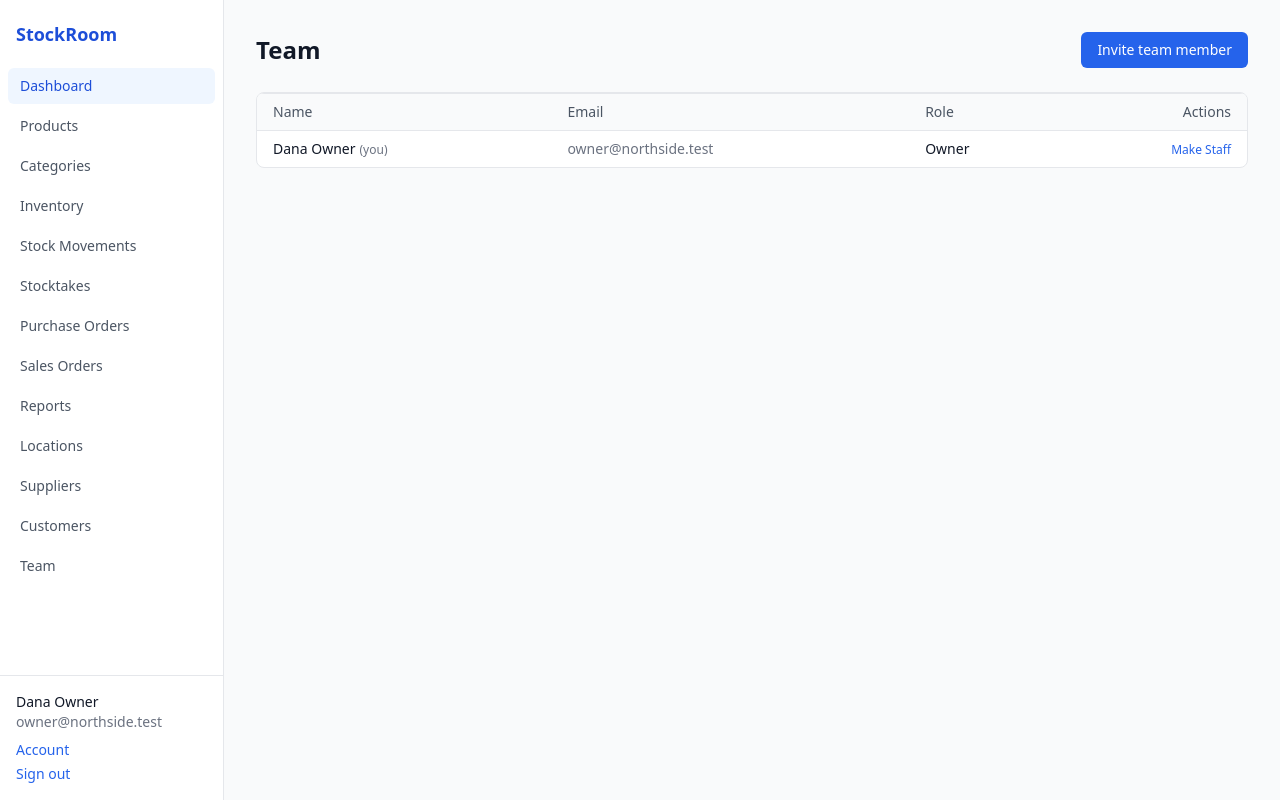
Test: TeamPage invite › has exactly two text inputs — name and email, no password
Expected: the text "(you)" is shown, [360, 141, 388, 158]
What coordinates should you click on to do the following:
click the button "Invite team member"
I would click on:
 (1165, 50)
Its box is [1081, 32, 1248, 68].
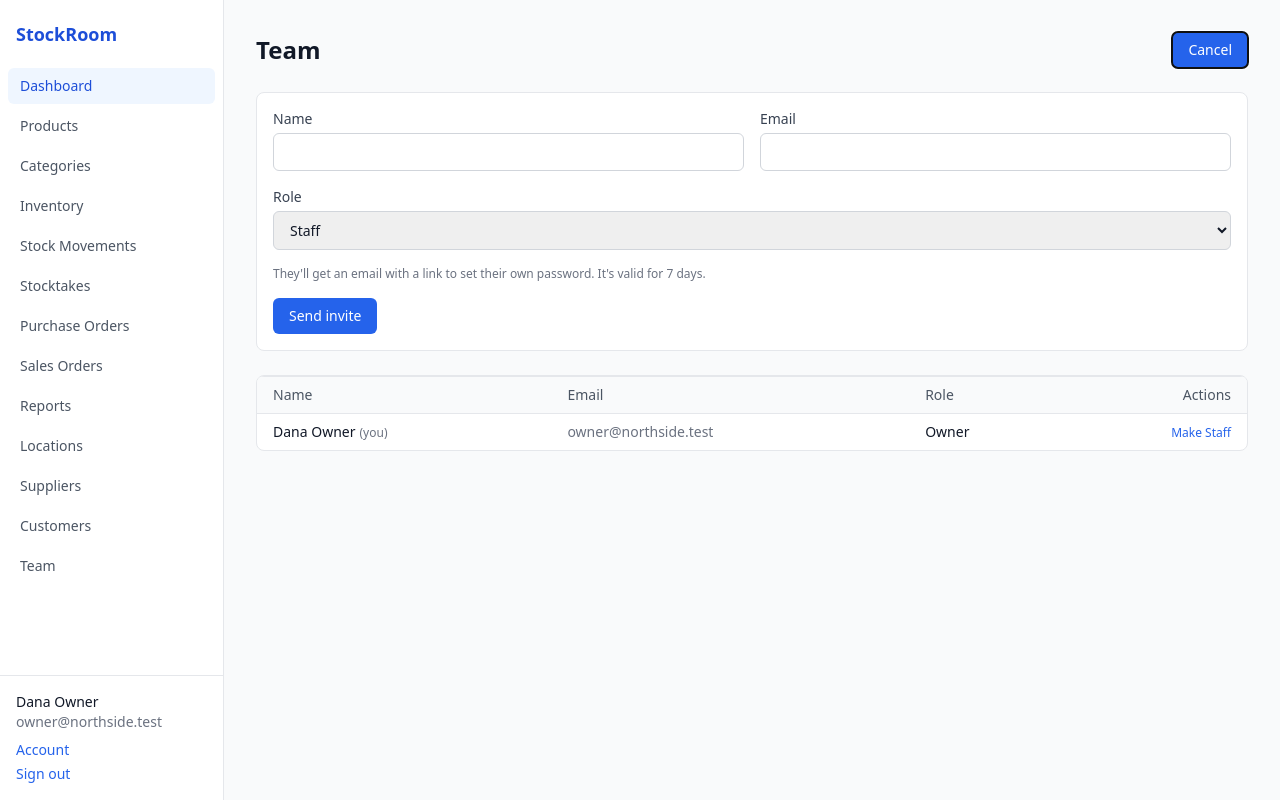
Expected: the field labelled "Name" is shown, [273, 133, 744, 171]
Expected: the field labelled "Email" is shown, [760, 133, 1231, 171]
Expected: the text "They'll get an email with a link to set their own password" is shown, [273, 265, 706, 282]
